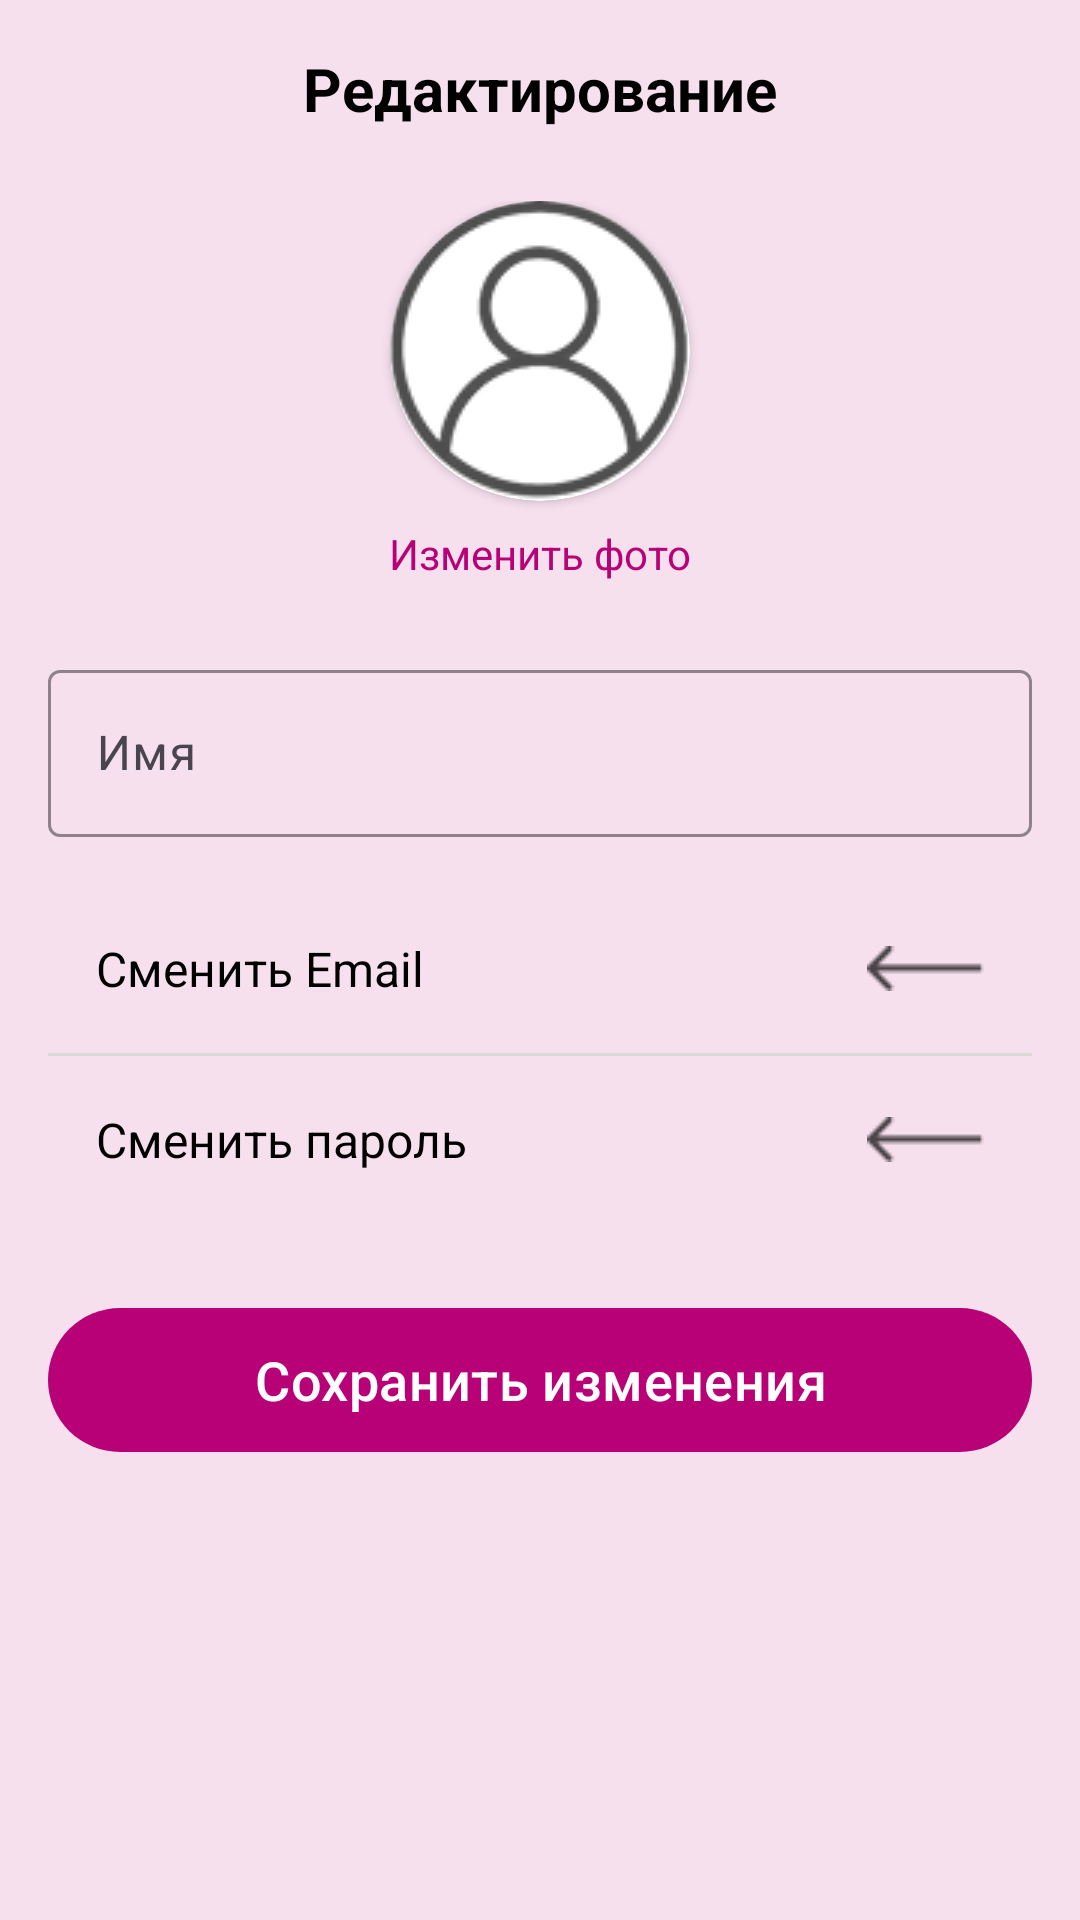

Icon click points for this 1080 x 1920 phone screenshot, format (x,y):
profile: (540,351)
